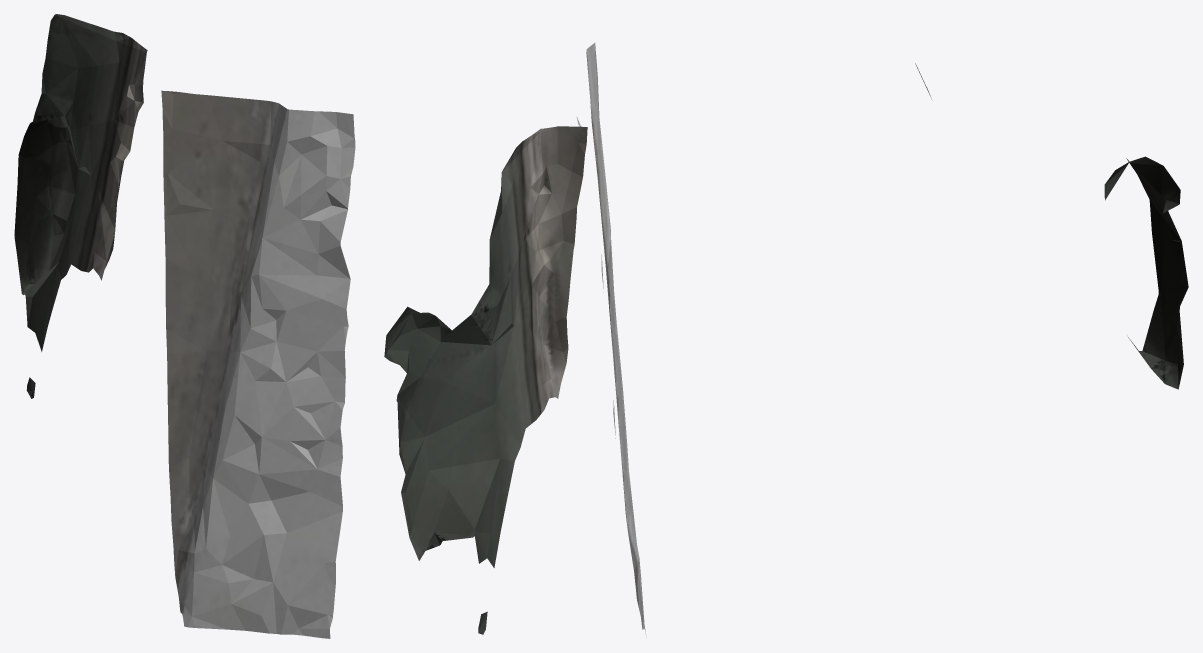
3 views of the same model, side by side, from view 1: azimuth 30°, elevation 25°; view 2: azimuth 150°, elevation 25°; view 3: azimuth 270°, elevation 25° (orthographic). The views are drawn at different scales.
Size of the model in its own units: 0.2059 by 0.8374 by 0.6801.
Materials: 2 (2 with a texture image).
